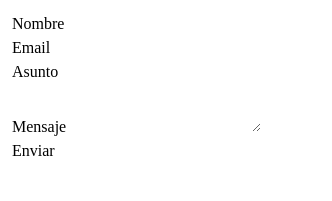
Contacto - Error de envío › muestra feedback visual de error cuando falla el envío del formulario
Step 1. Type "Juan Pérez" into the field labelled "Nombre" → (164, 24), box [64, 12, 264, 36]
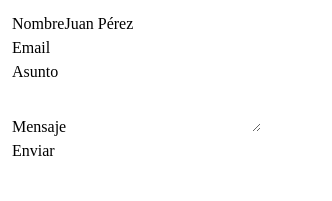
Step 2. Type "juan.perez@email.com" into the field labelled "Email" → (150, 48), box [50, 36, 250, 60]
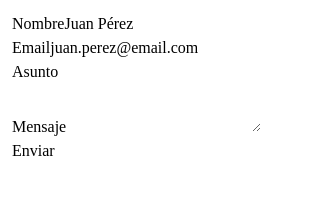
Step 3. Type "Consulta general" into the field labelled "Asunto" → (158, 72), box [58, 60, 258, 84]
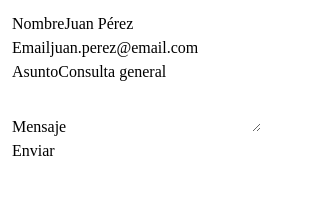
Step 4. Type "Hola, este es un mensaje de prueba para contacto." into the text box labelled "Mensaje" → (164, 108), box [66, 84, 261, 132]
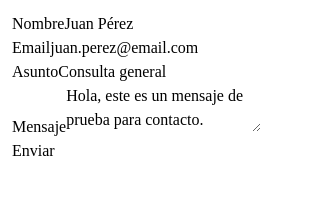
Step 5. Click the button "Enviar" → (33, 151), box [12, 139, 55, 163]
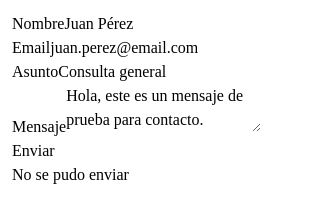
Now the text "No se pudo enviar" is shown, box [12, 166, 129, 183]
